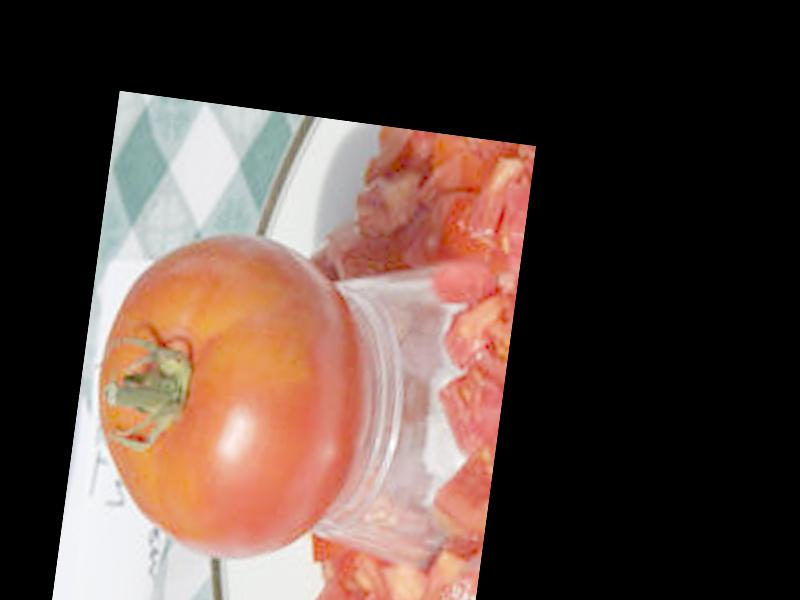Tomato: (74, 216, 384, 576)
